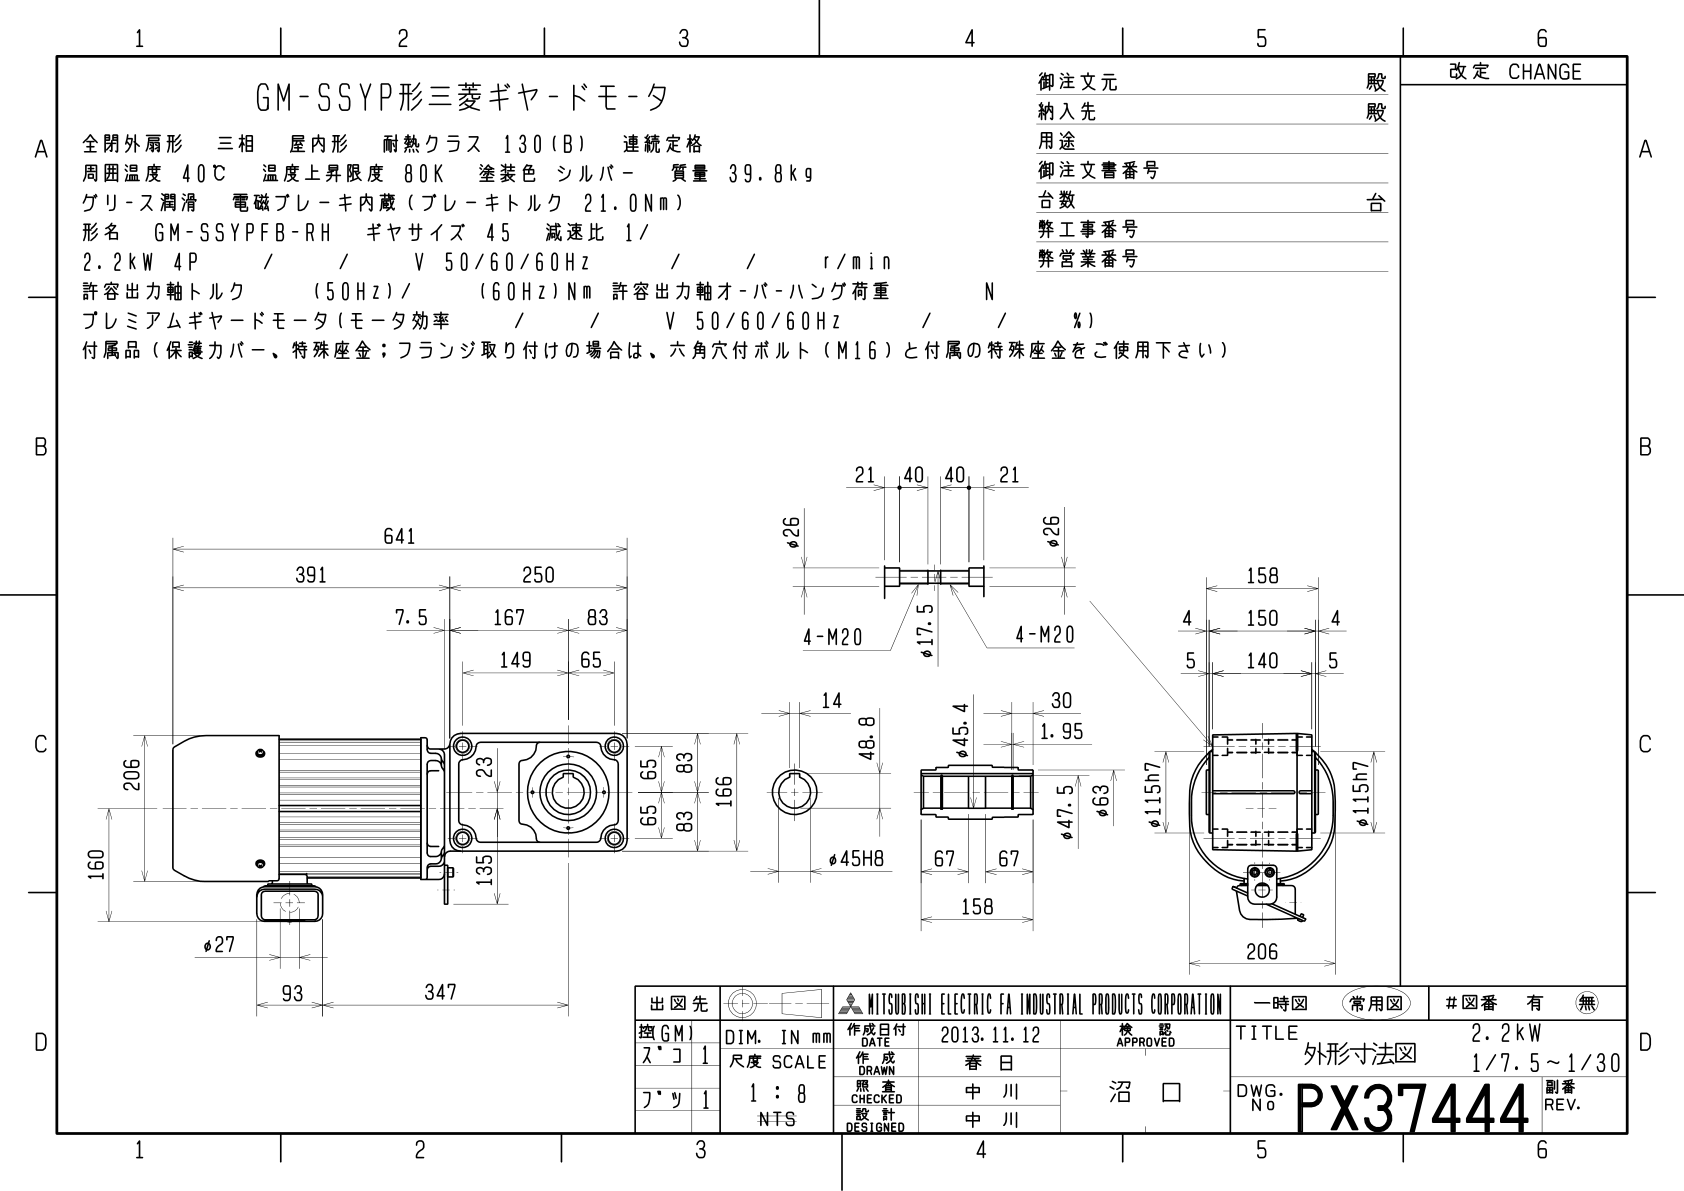GM_SSYP_屋内_三相: (81, 452, 1392, 978)
